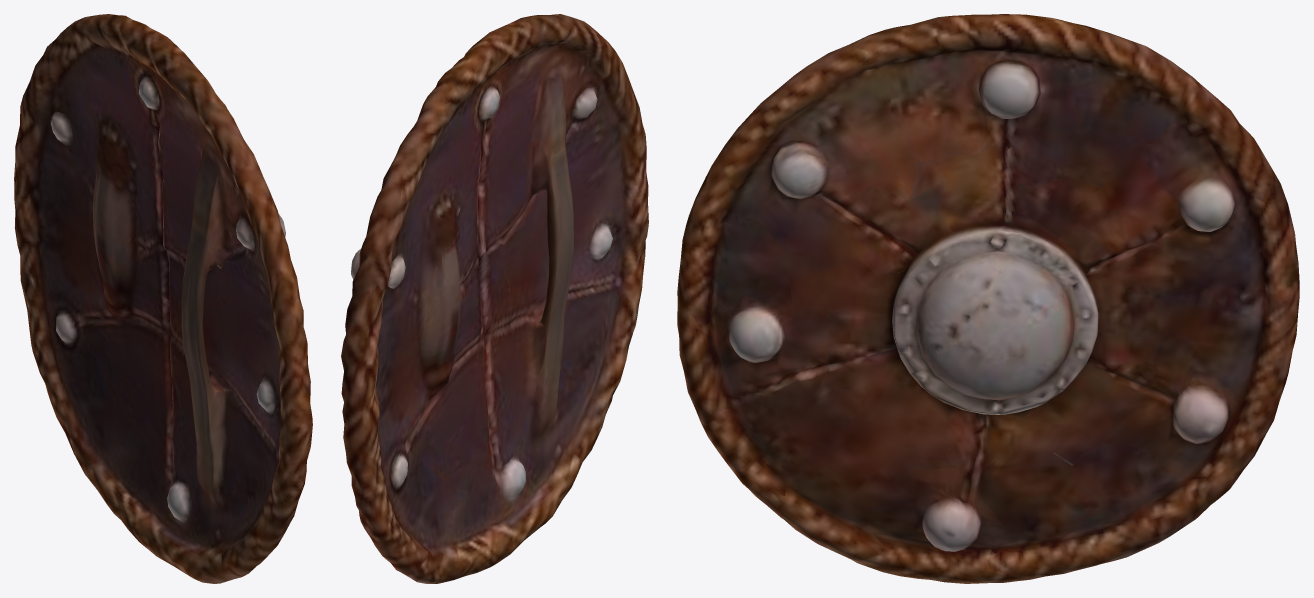
The model's file is shld_leath.glb.
3 renders of one model, left to right at view 1: azimuth 30°, elevation 25°; view 2: azimuth 150°, elevation 25°; view 3: azimuth 270°, elevation 25°, orthographic. The views are drawn at different scales.
Visible parts, largest first — view 1: tripo_node_60ae09b3-fb35-44e3-9189-303ded73cddc; view 2: tripo_node_60ae09b3-fb35-44e3-9189-303ded73cddc; view 3: tripo_node_60ae09b3-fb35-44e3-9189-303ded73cddc.
Part boxes in pixels (x1=…): tripo_node_60ae09b3-fb35-44e3-9189-303ded73cddc: x1=14, y1=14, x2=312, y2=583; tripo_node_60ae09b3-fb35-44e3-9189-303ded73cddc: x1=341, y1=14, x2=648, y2=583; tripo_node_60ae09b3-fb35-44e3-9189-303ded73cddc: x1=677, y1=14, x2=1299, y2=583.
Bounding box in the file's own units: 0.1054 × 0.6 × 0.5962.
Materials: 1 (1 with a texture image).
